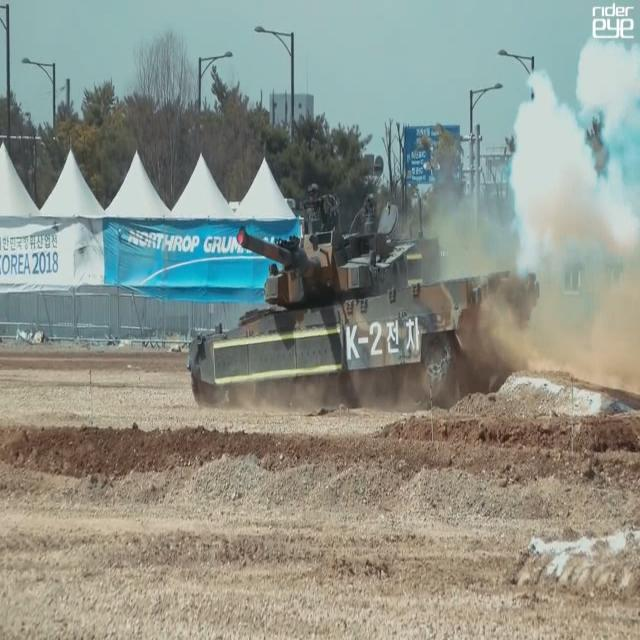korea tank: (183, 182, 540, 414)
